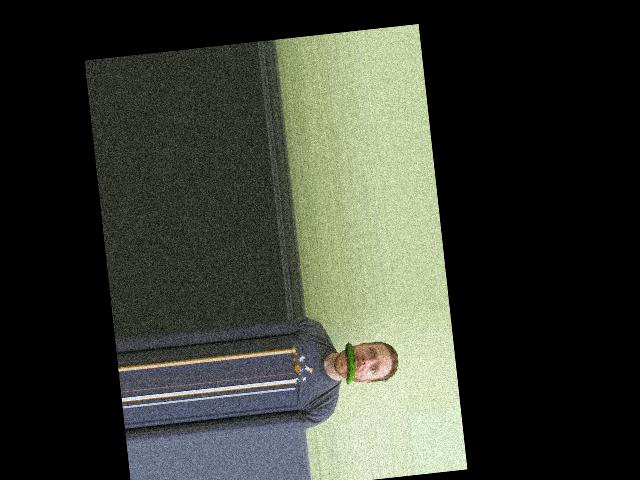cucumber: (341, 341, 356, 385)
